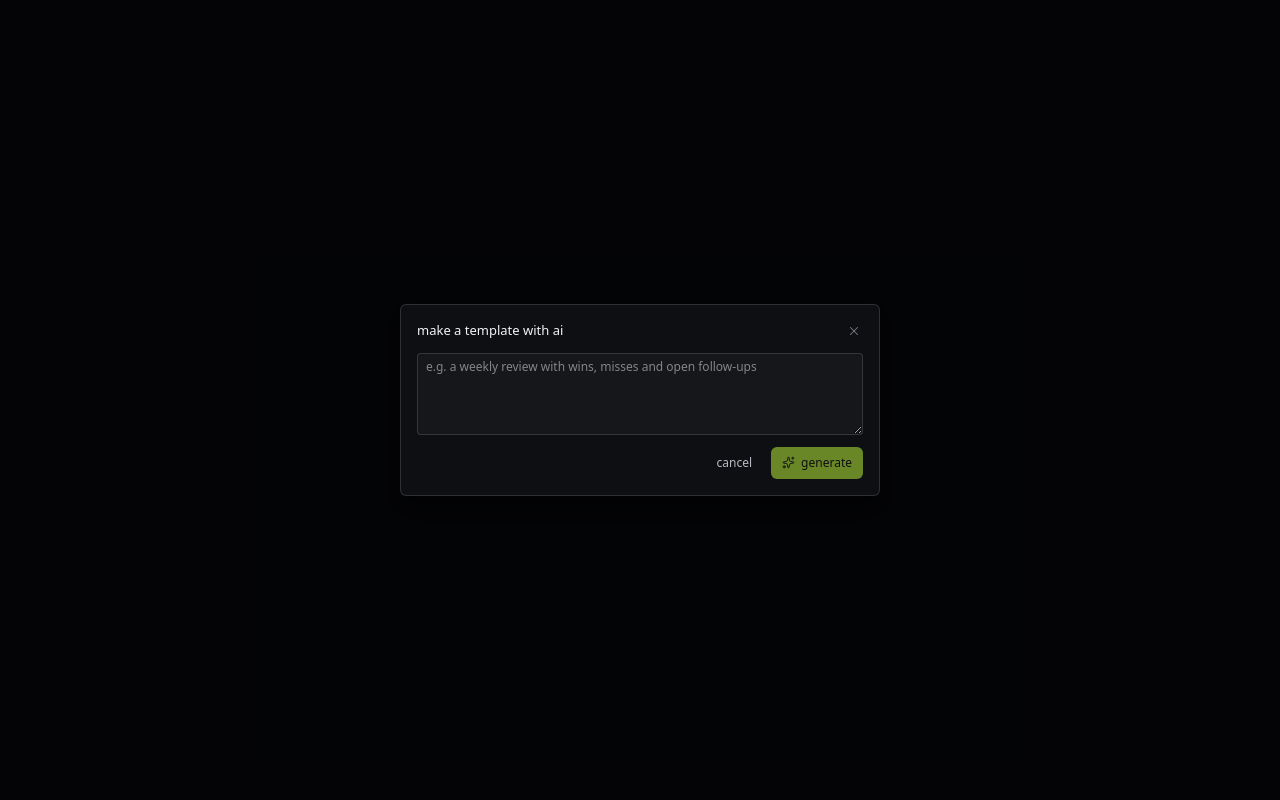
Test: MakeTemplateDialog › does not generate again for a pending result until the description changes
Type "a weekly review" into the text box named "describe the template".
click(640, 394); type("a weekly review")  # box [417,353,863,435]
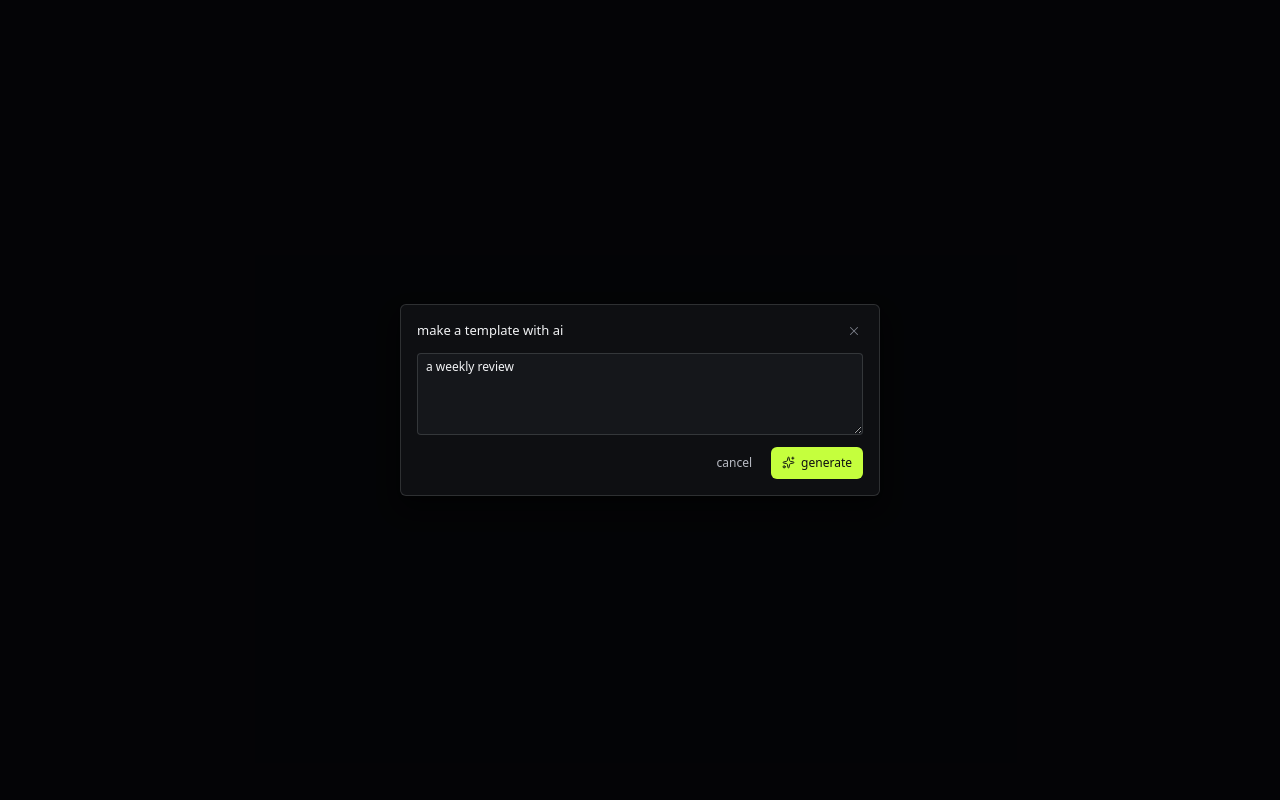
Click the button "generate".
click(817, 463)  # box [771,447,863,479]
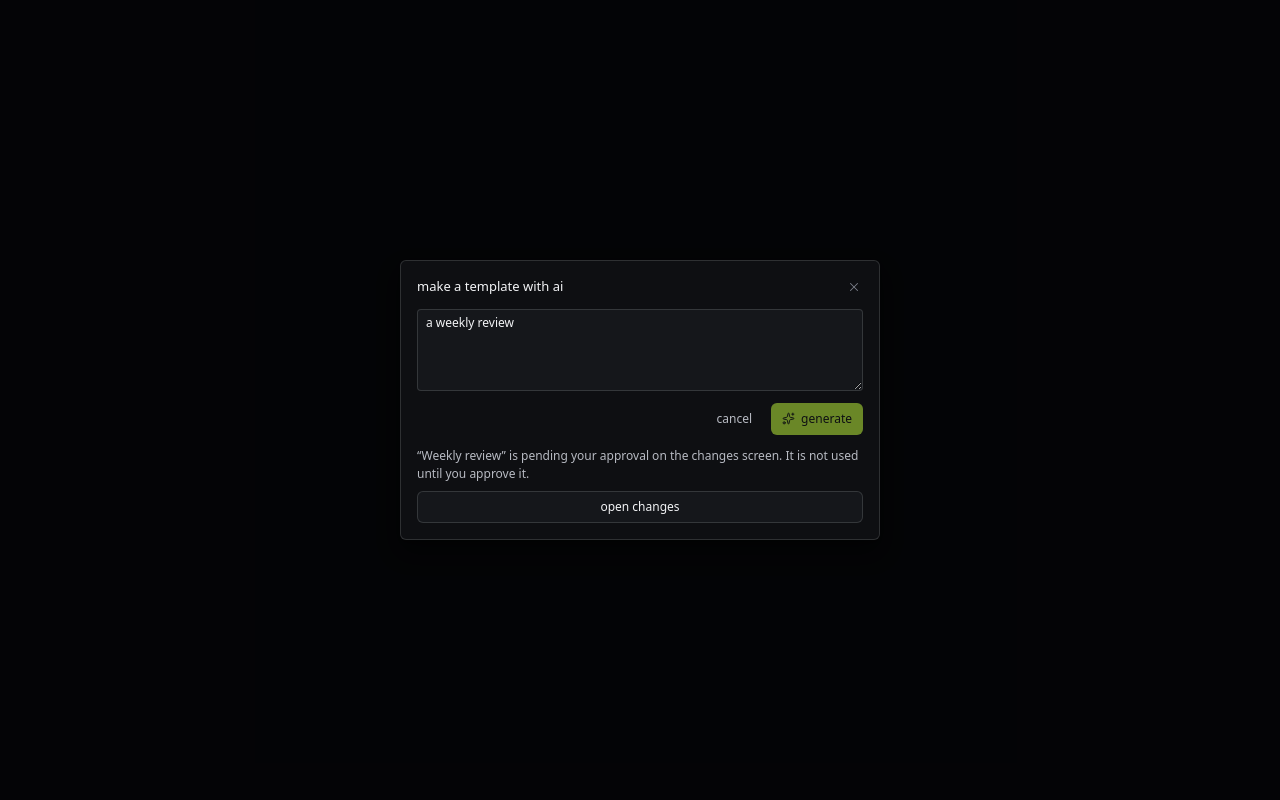
Check: the text "pending your approval" is shown, box [417,447,858,482]
Check: the button "generate" is disabled, box [771,403,863,435]
Replace the text in the text box named "describe the template" with "a weekly review with wins" at (640, 350), box [417,309,863,391]
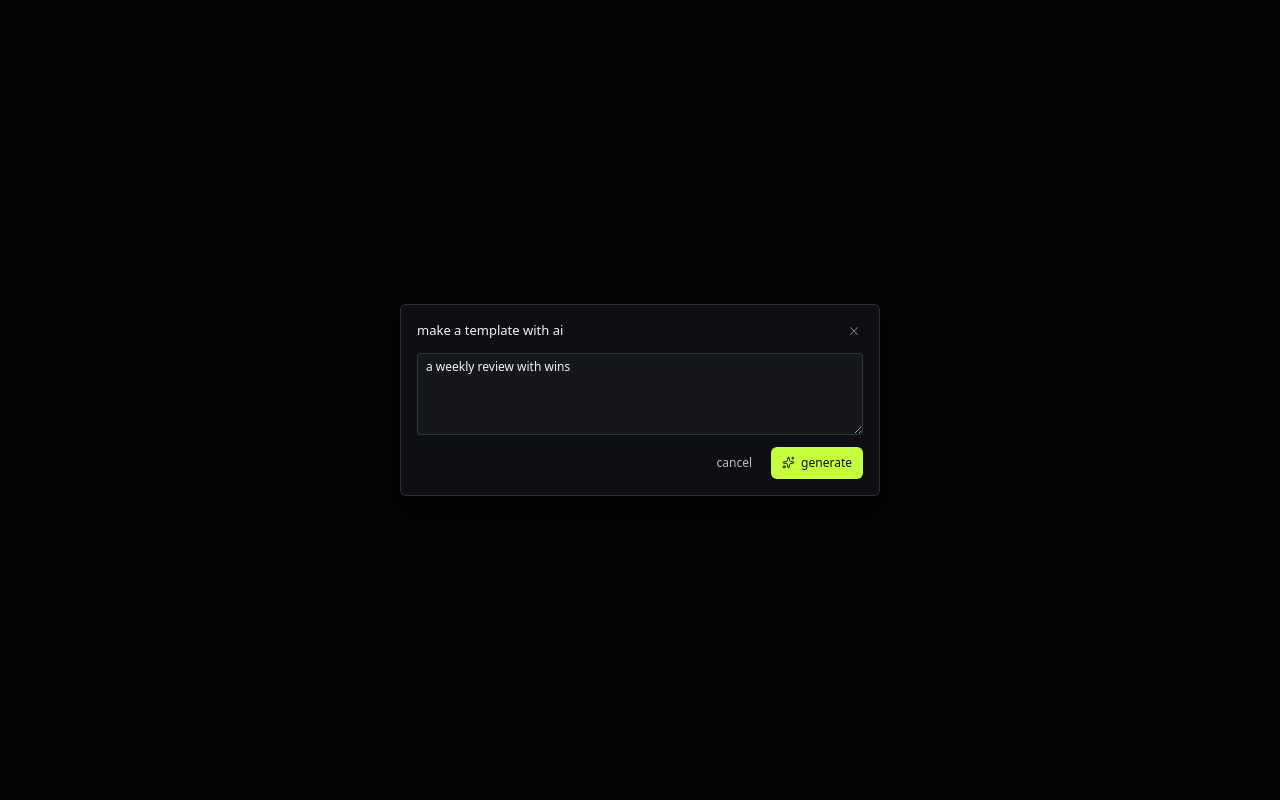
Check: the text "pending your approval" is gone
Check: the button "generate" is enabled, box [771,447,863,479]
